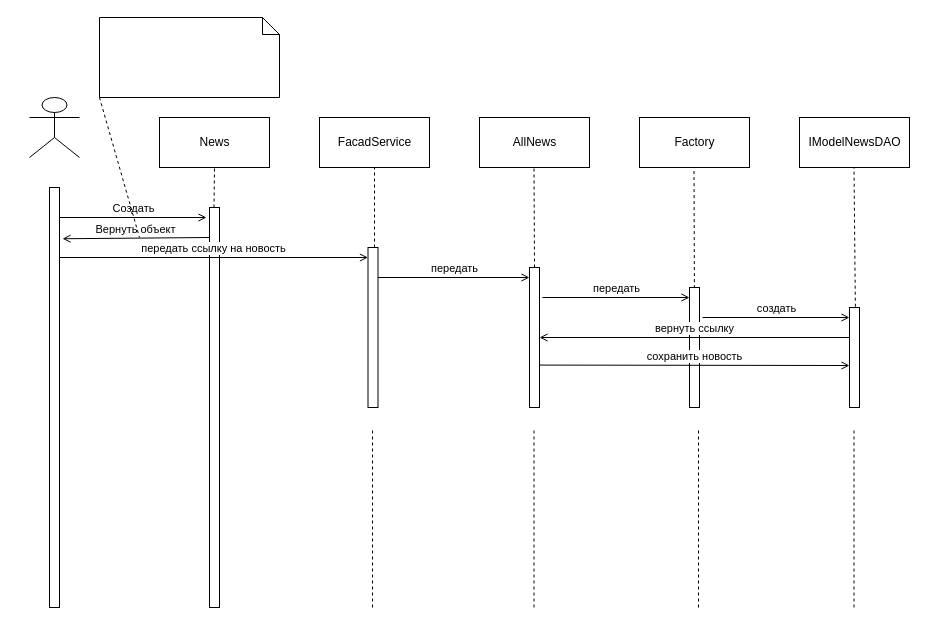
The diagram is 927 pixels wide and 626 high, and some of its shapes have lost their labels. The centre of each missing label's shape, as x and y in pixels:
"API_2_Author" goes at (54,127).
"возвращаем ссылку для передачи новости фасаду, что бы он сохранил новость" goes at (189,57).
